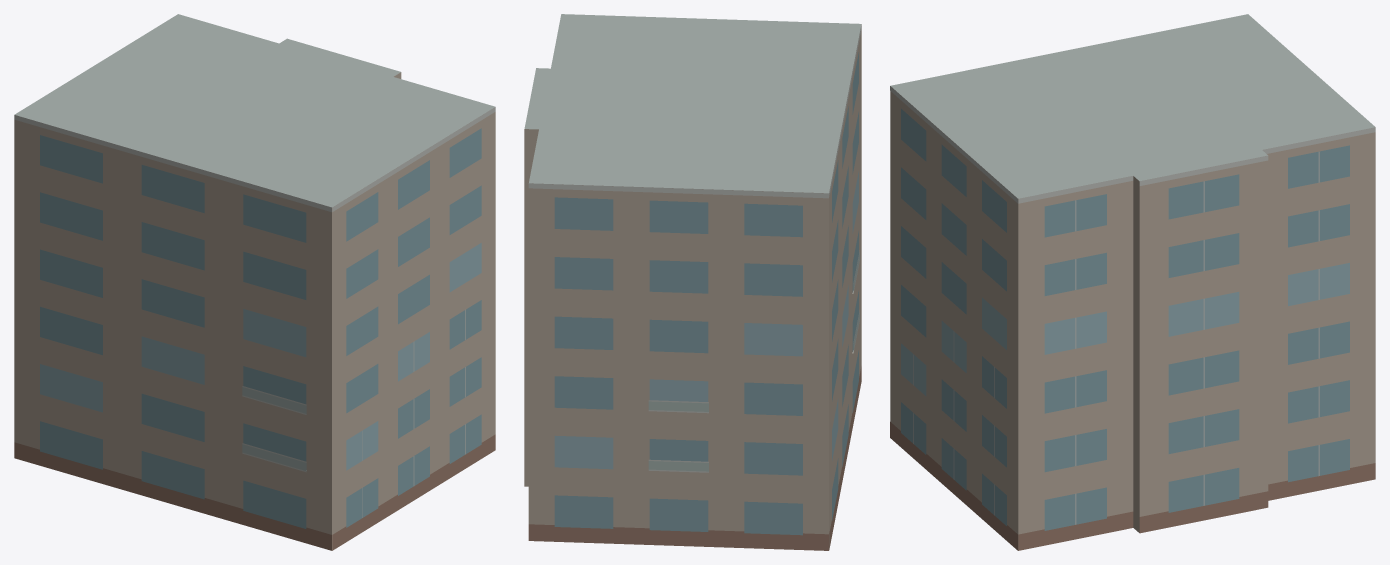
The model's file is survey-upis-32745154.glb.
3 renders of one model, left to right at view 1: azimuth 30°, elevation 25°; view 2: azimuth 150°, elevation 25°; view 3: azimuth 270°, elevation 25°, orthographic. The views are drawn at different scales.
Parts seen in each view (by area): view 1: survey-upis-32745154.tmp; view 2: survey-upis-32745154.tmp; view 3: survey-upis-32745154.tmp.
Part boxes in pixels (box(x1,y1,x2,y2)): survey-upis-32745154.tmp: box(14, 14, 495, 550); survey-upis-32745154.tmp: box(524, 14, 861, 550); survey-upis-32745154.tmp: box(890, 14, 1375, 550).
Size of the model in its own units: 19.48 by 17.3 by 21.63.
